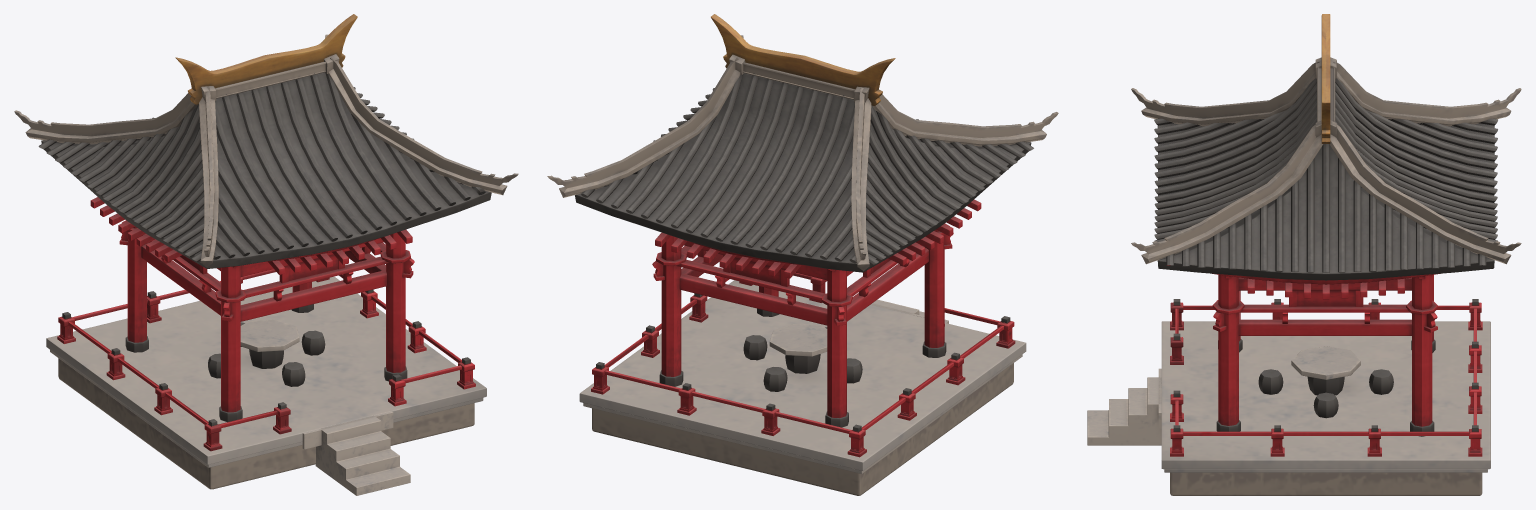
The model's file is pavilion_7.fbx.
3 renders of one model, left to right at view 1: azimuth 30°, elevation 25°; view 2: azimuth 150°, elevation 25°; view 3: azimuth 270°, elevation 25°, orthographic.
Visible parts, largest first — view 1: liangting_7; view 2: liangting_7; view 3: liangting_7.
Boxes of the visible parts, x1,y1,x2,y2 form: liangting_7: (14, 14, 518, 495); liangting_7: (547, 14, 1058, 495); liangting_7: (1087, 14, 1521, 495).
Bounding box in the file's own units: 1185 × 1320 × 1389.
